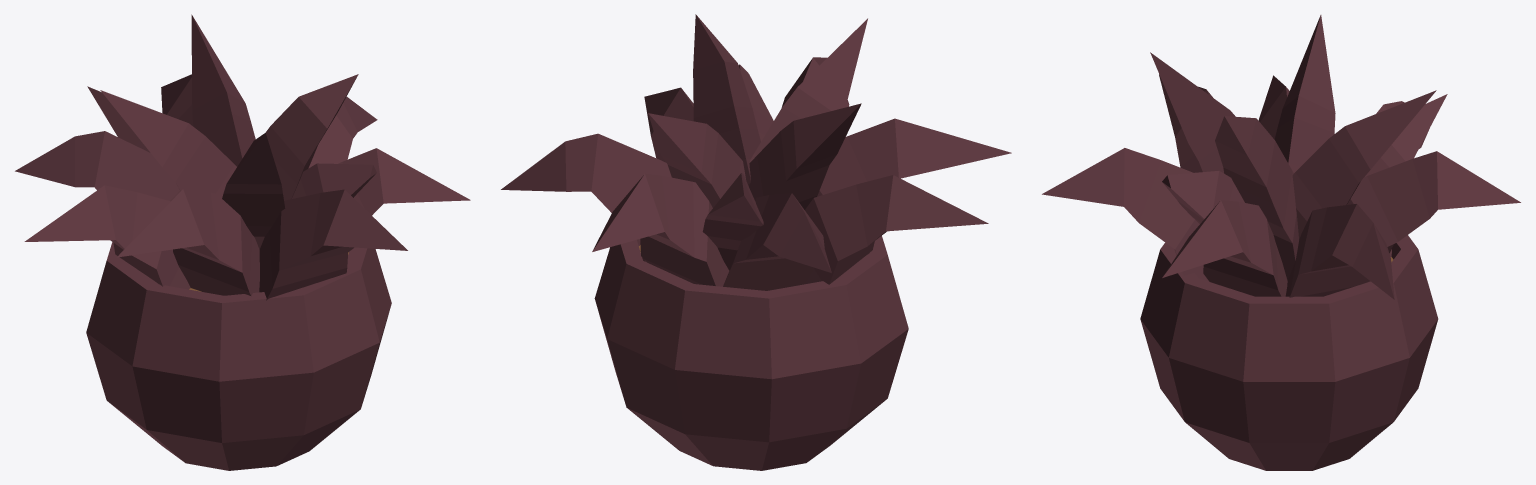
File: pot-tiny-succulent-b.fbx
3 renders of one model, left to right at view 1: azimuth 30°, elevation 25°; view 2: azimuth 150°, elevation 25°; view 3: azimuth 270°, elevation 25°, orthographic. The views are drawn at different scales.
Parts seen in each view (by area): view 1: pot-tiny-succulent-b; view 2: pot-tiny-succulent-b; view 3: pot-tiny-succulent-b.
Part boxes in pixels (x1,y1,x2,y2): pot-tiny-succulent-b: (15,14,470,470); pot-tiny-succulent-b: (501,14,1011,470); pot-tiny-succulent-b: (1042,15,1520,470).
Size of the model in its own units: 0.1918 by 0.1628 by 0.1934.
